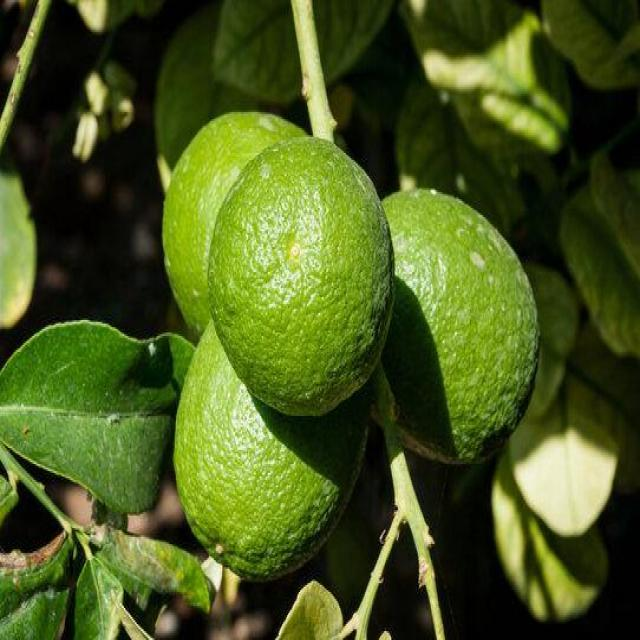Jeruk Belum Matang: (206, 133, 396, 420), (174, 318, 376, 583), (367, 188, 542, 472), (163, 112, 311, 336)
